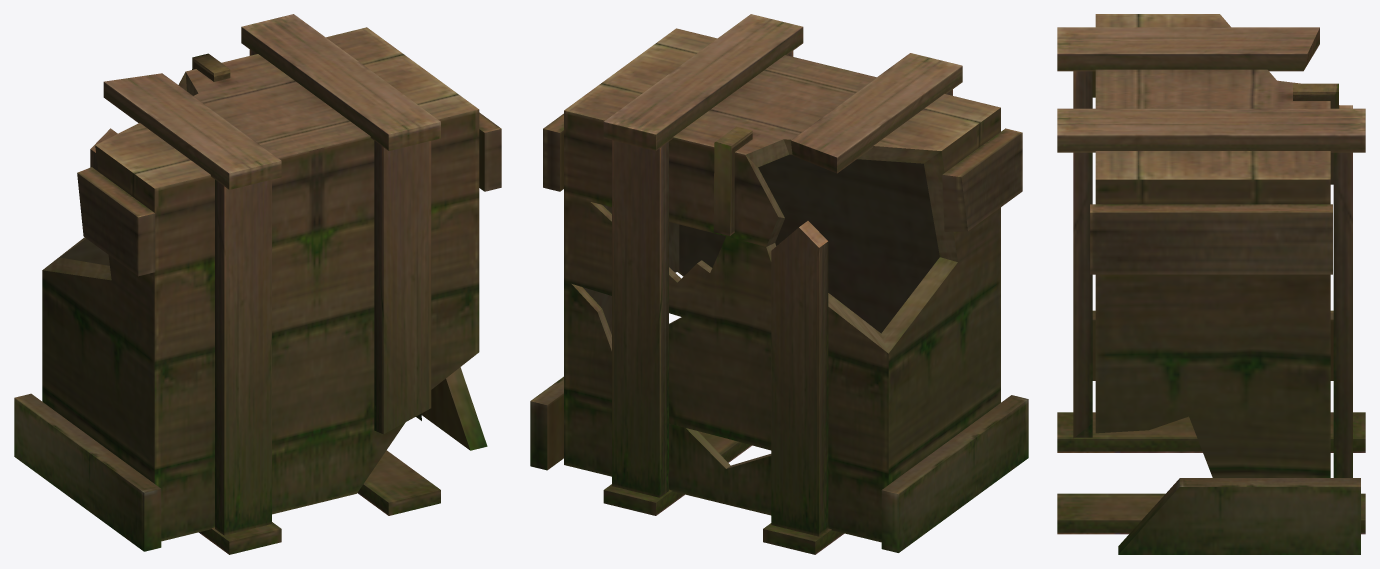
Rendered from yw_huanghunhupan_muxiang02.FBX.
3 views of the same model, side by side, from view 1: azimuth 30°, elevation 25°; view 2: azimuth 150°, elevation 25°; view 3: azimuth 270°, elevation 25° (orthographic). The views are drawn at different scales.
Visible parts, largest first — view 1: yw_huanghunhupan_muxiang02; view 2: yw_huanghunhupan_muxiang02; view 3: yw_huanghunhupan_muxiang02.
Part boxes in pixels (x1=…): yw_huanghunhupan_muxiang02: x1=14, y1=14, x2=501, y2=554; yw_huanghunhupan_muxiang02: x1=530, y1=14, x2=1028, y2=554; yw_huanghunhupan_muxiang02: x1=1057, y1=14, x2=1365, y2=554.
Bounding box in the file's own units: 75.92 × 76.11 × 53.29.
